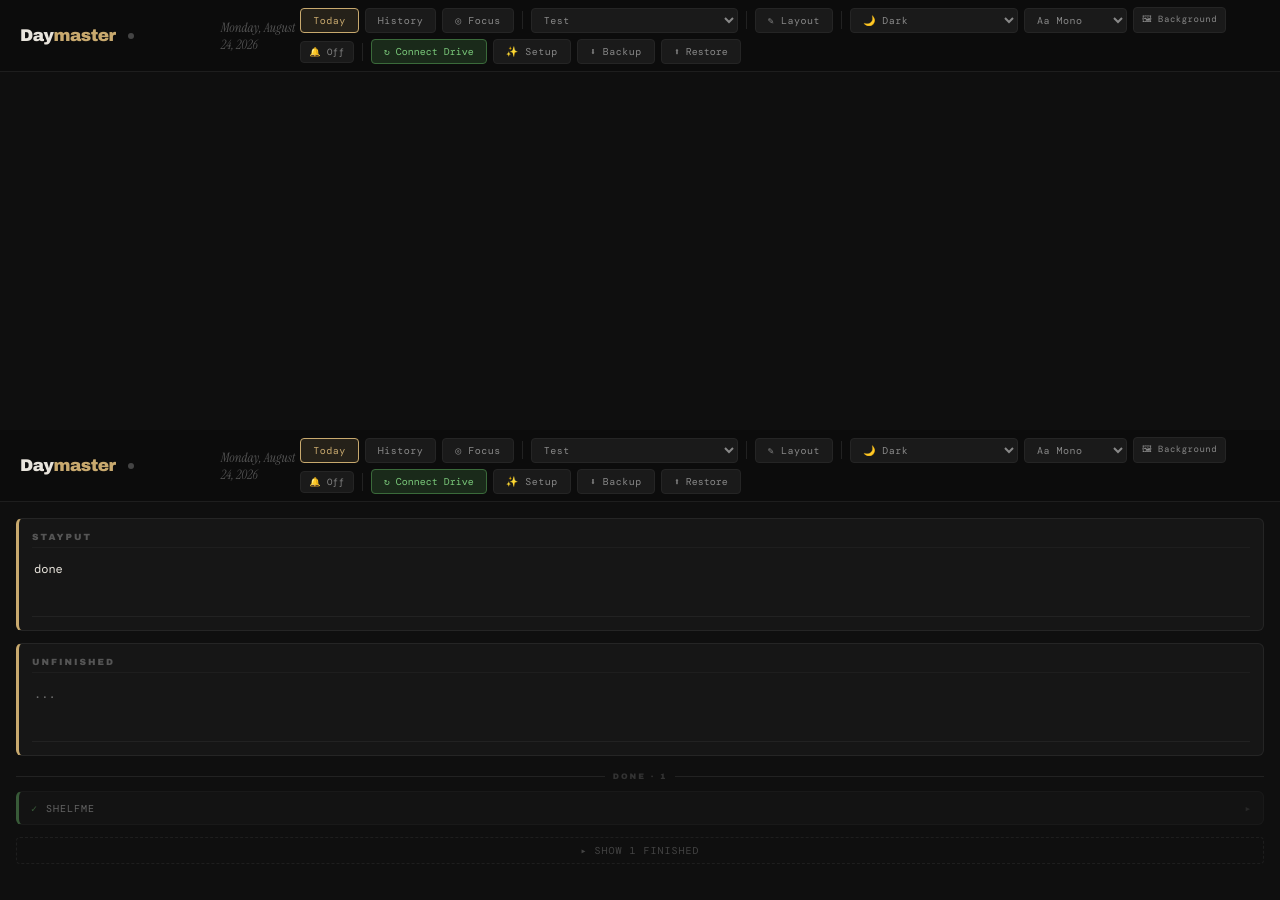
it: App — done states (#113) integration › shows every tile in edit mode, so the layout you arrange is the layout you see
(page scrolled)
Click the 2nd button "✎ Layout" at (794, 450), box [755,438,833,462]
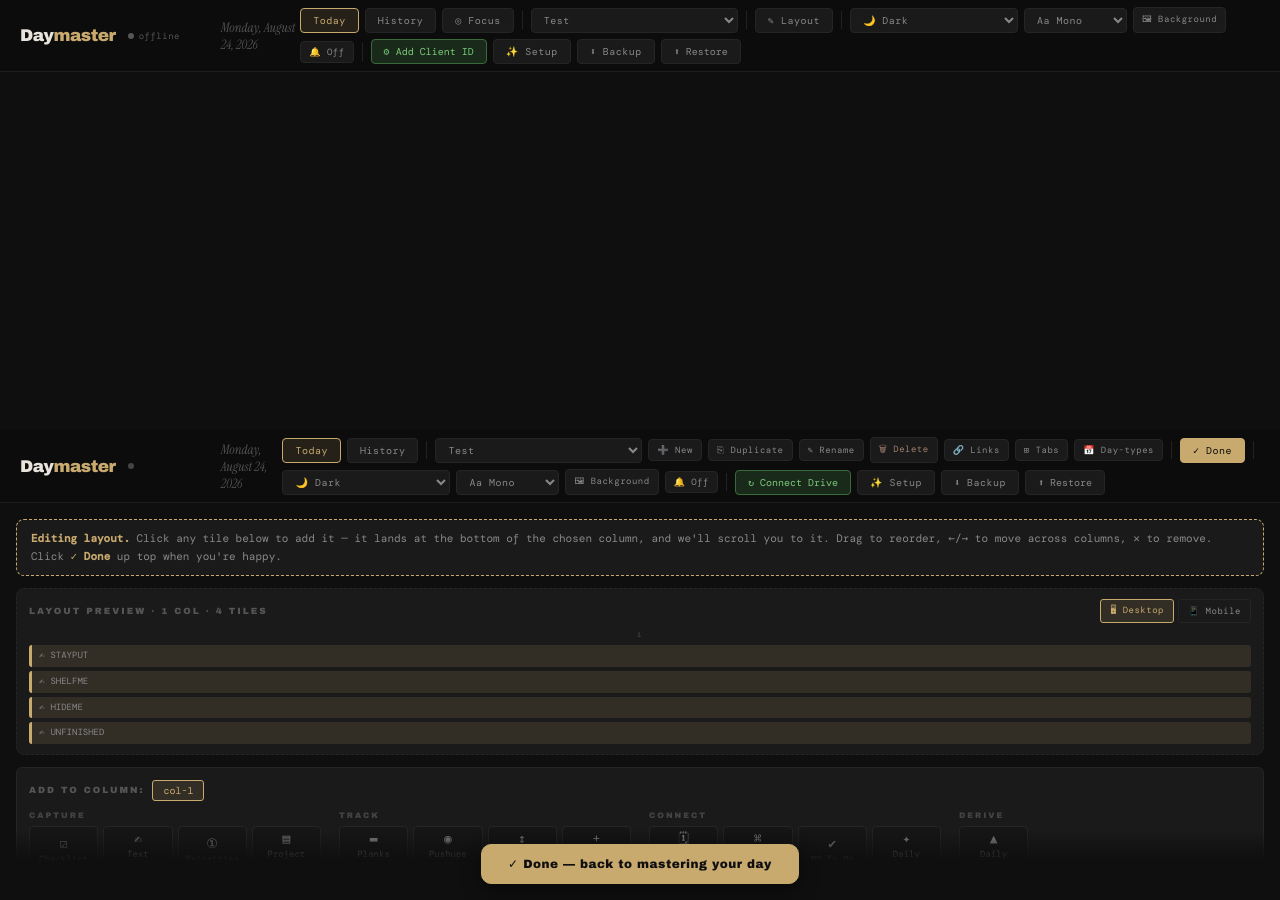
Expected: the text "Done ·" is not shown
Expected: the text "HIDEME" is shown, [50,702,83,713]
